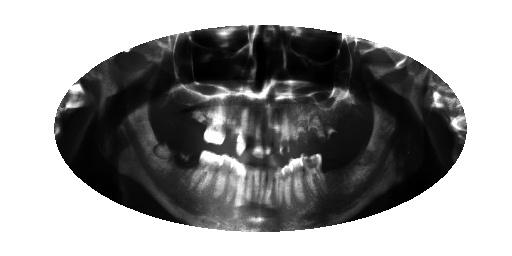Cavity: (303, 153, 329, 198), (307, 110, 327, 149), (294, 105, 307, 155), (279, 112, 292, 156)
